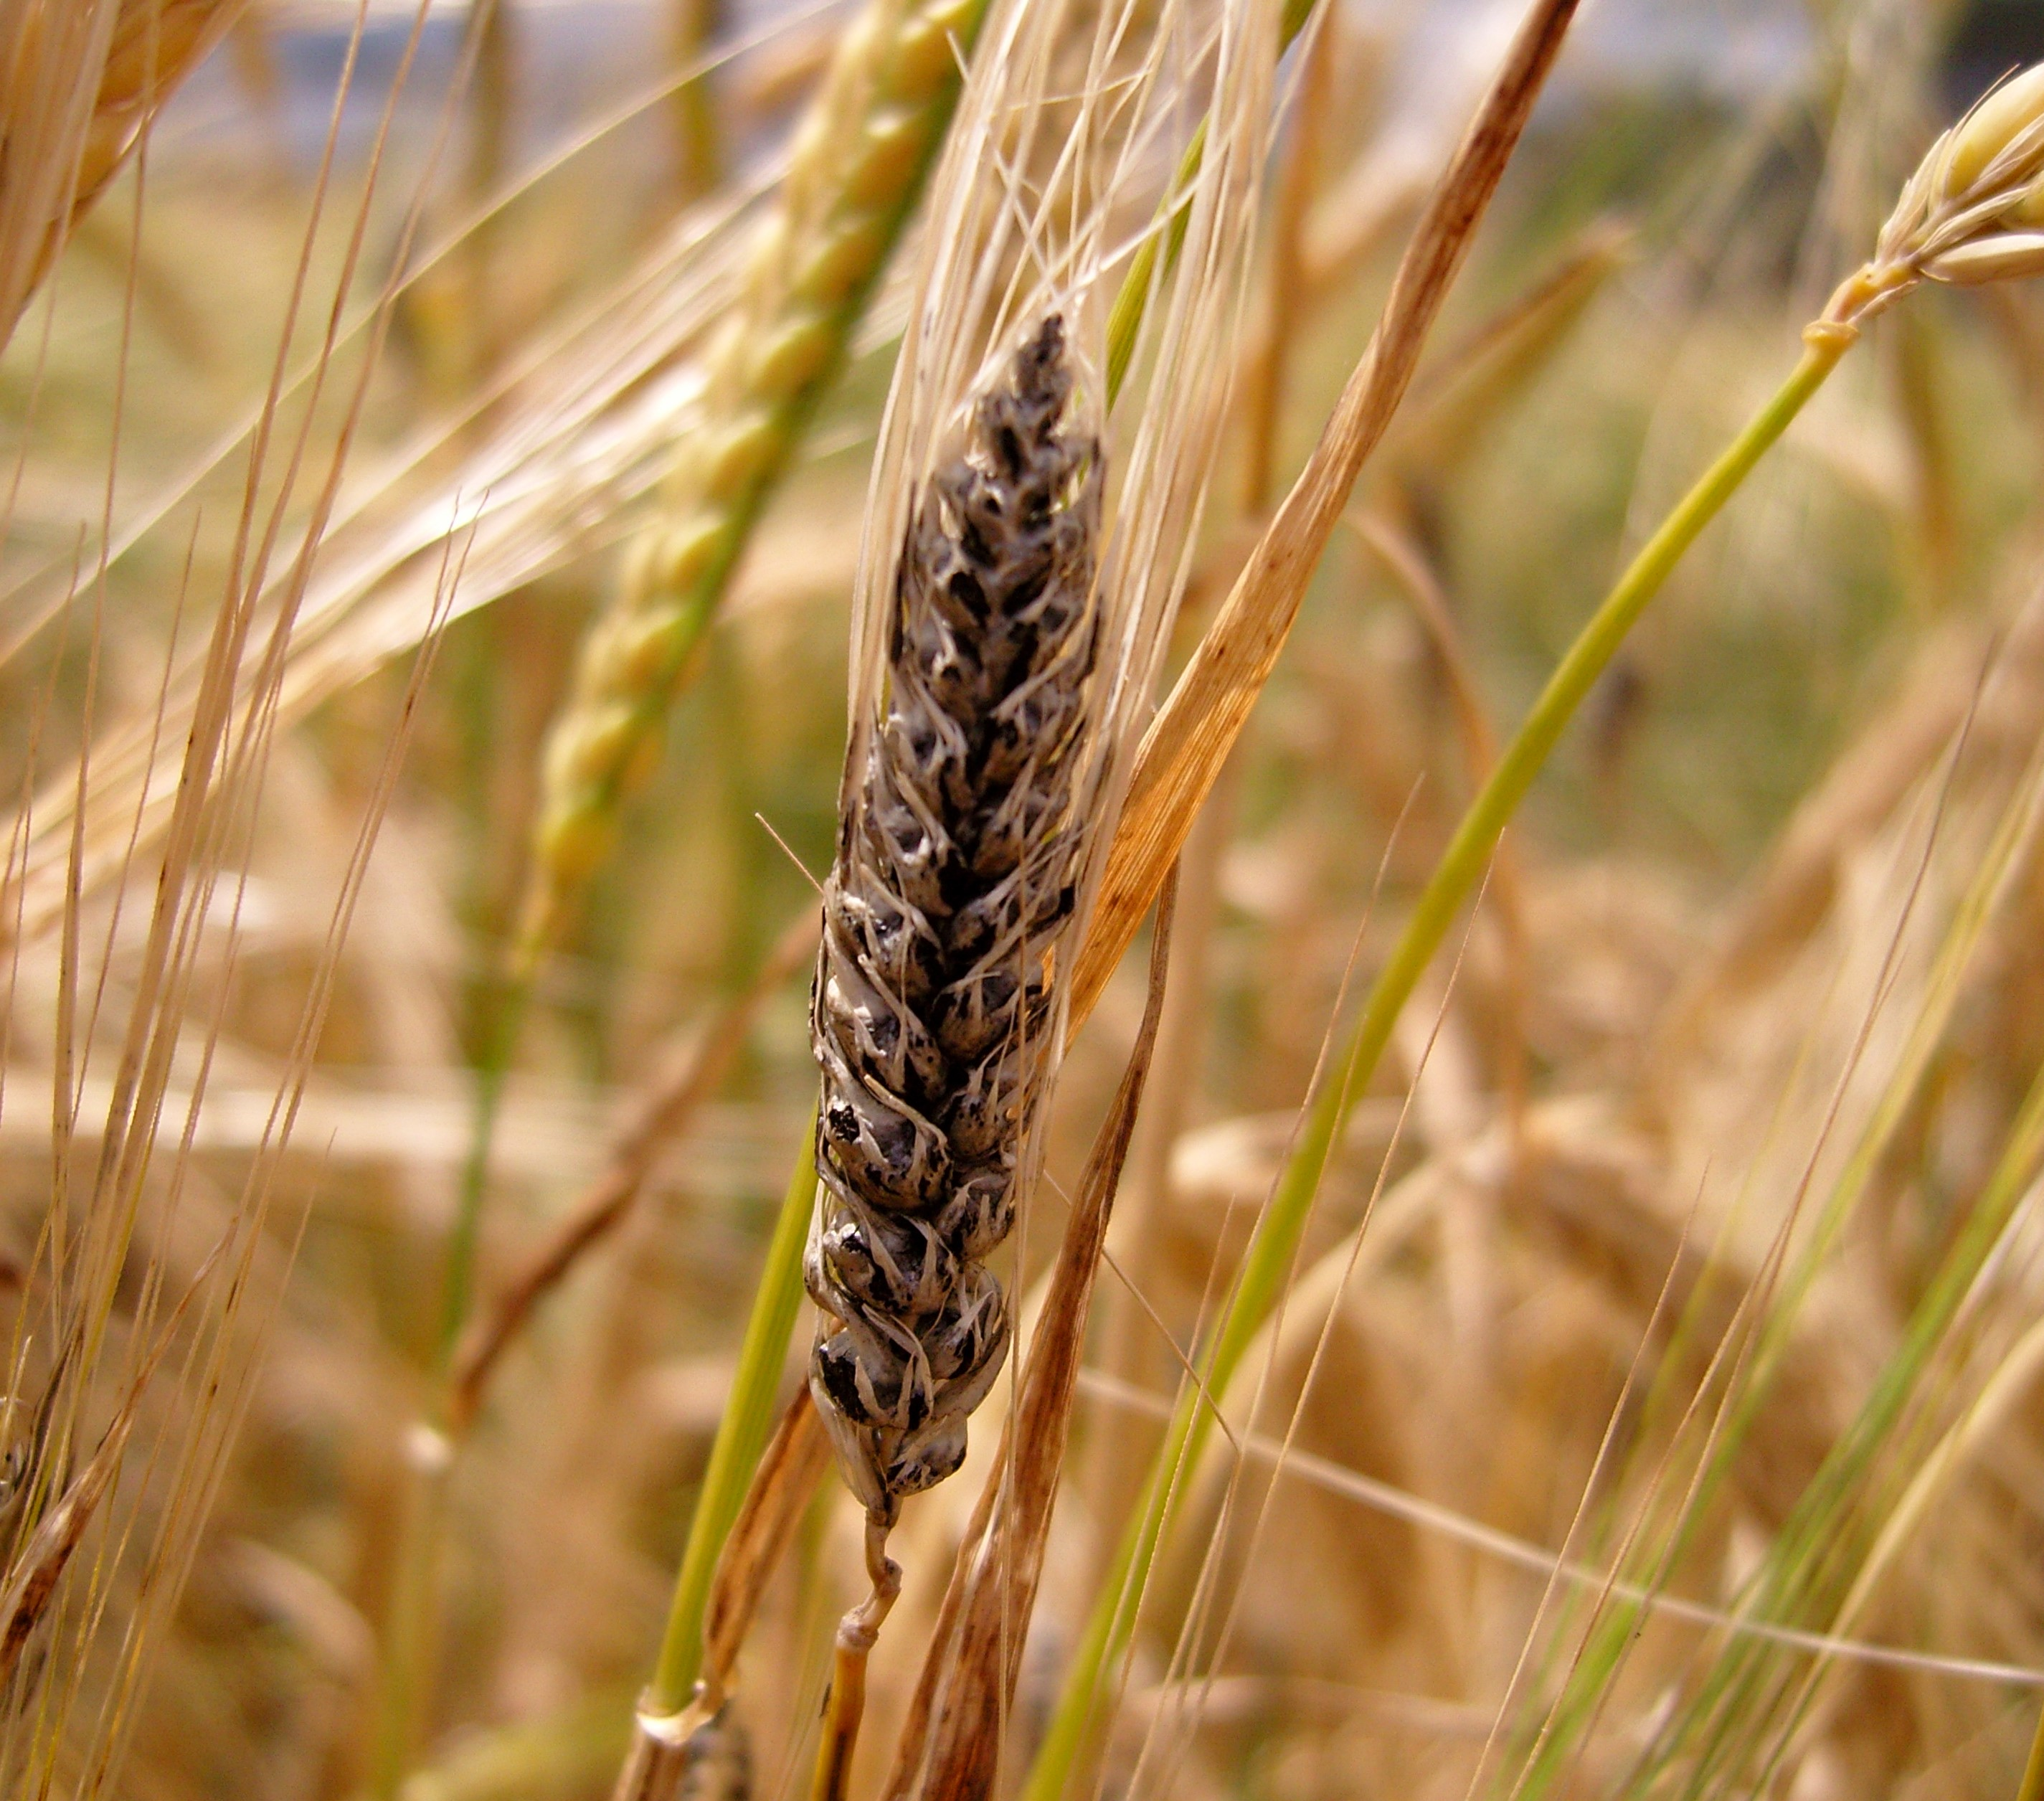Wheat Loose Smut: (779, 318, 1121, 1511)
